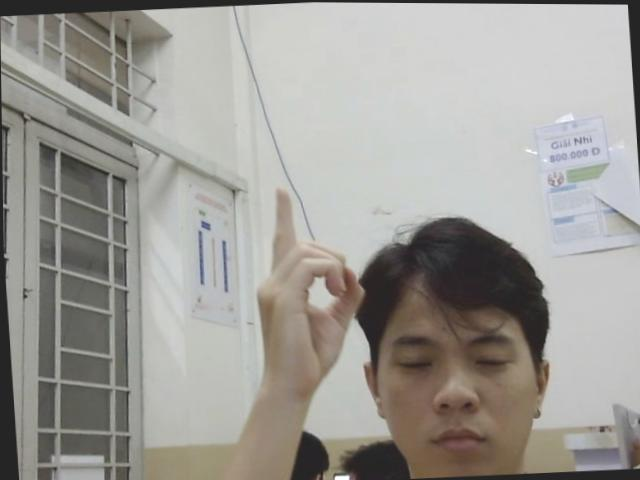D: (243, 181, 370, 397)
